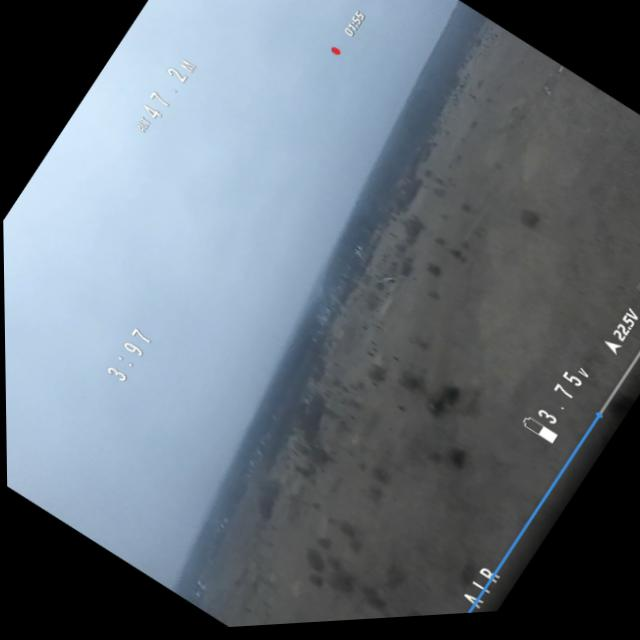planedrone: (375, 257, 419, 301)
